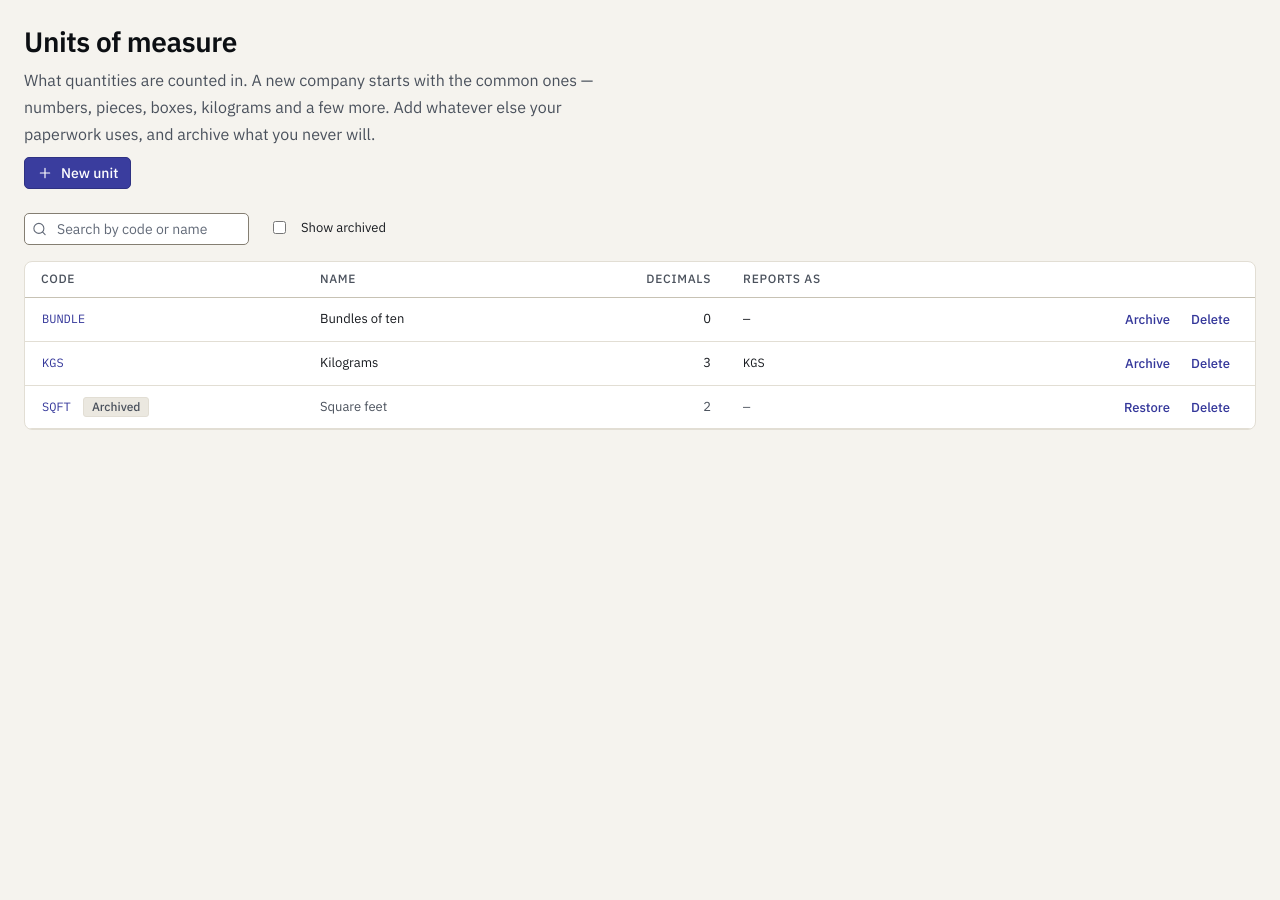
it: editing › shows what main answered with after a save, not what was sent
Click the button "KGS".
click(53, 363)  # box [33,350,73,377]
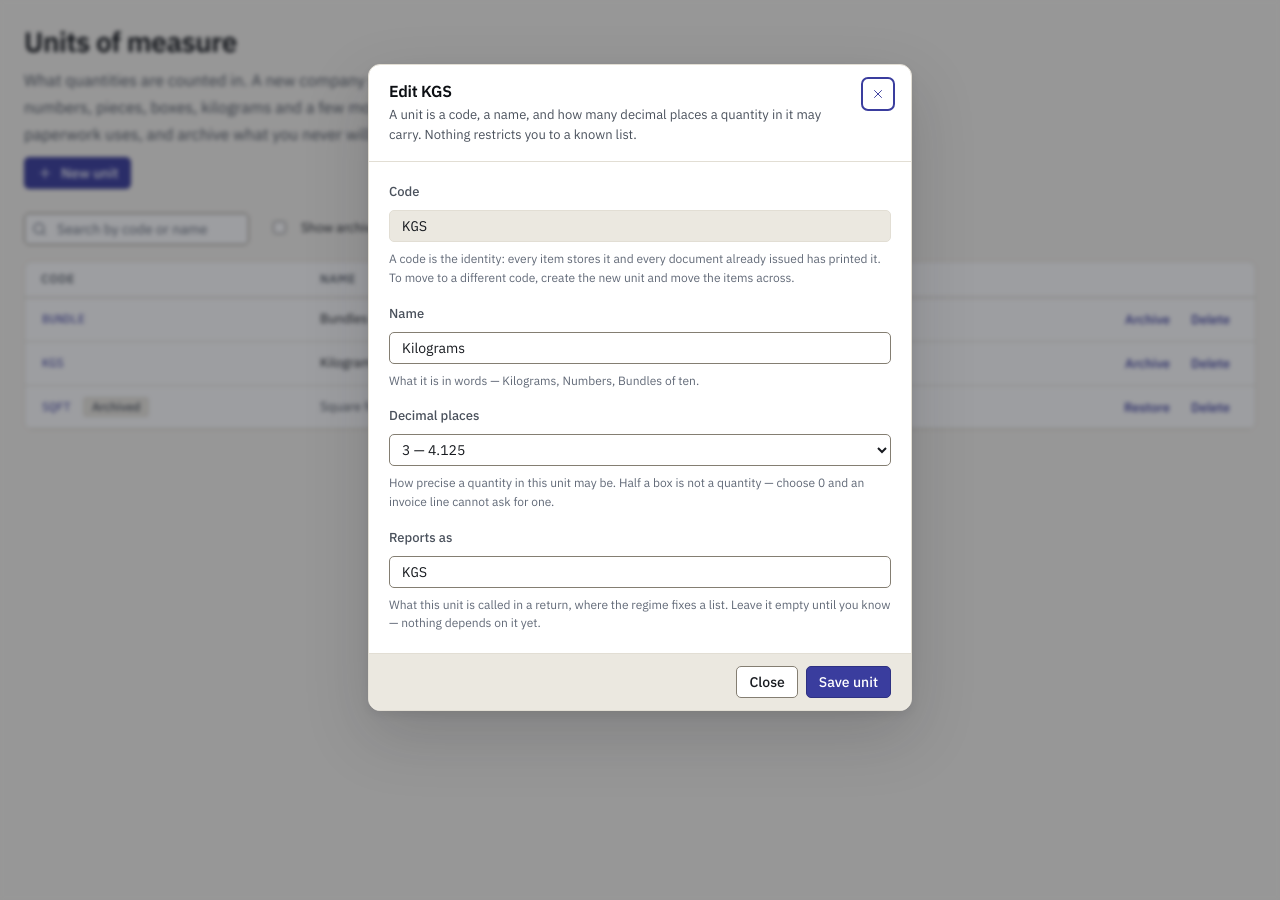
Replace the text in the field labelled "Name" with "Kilos" at (640, 348), box [389,332,891,364]
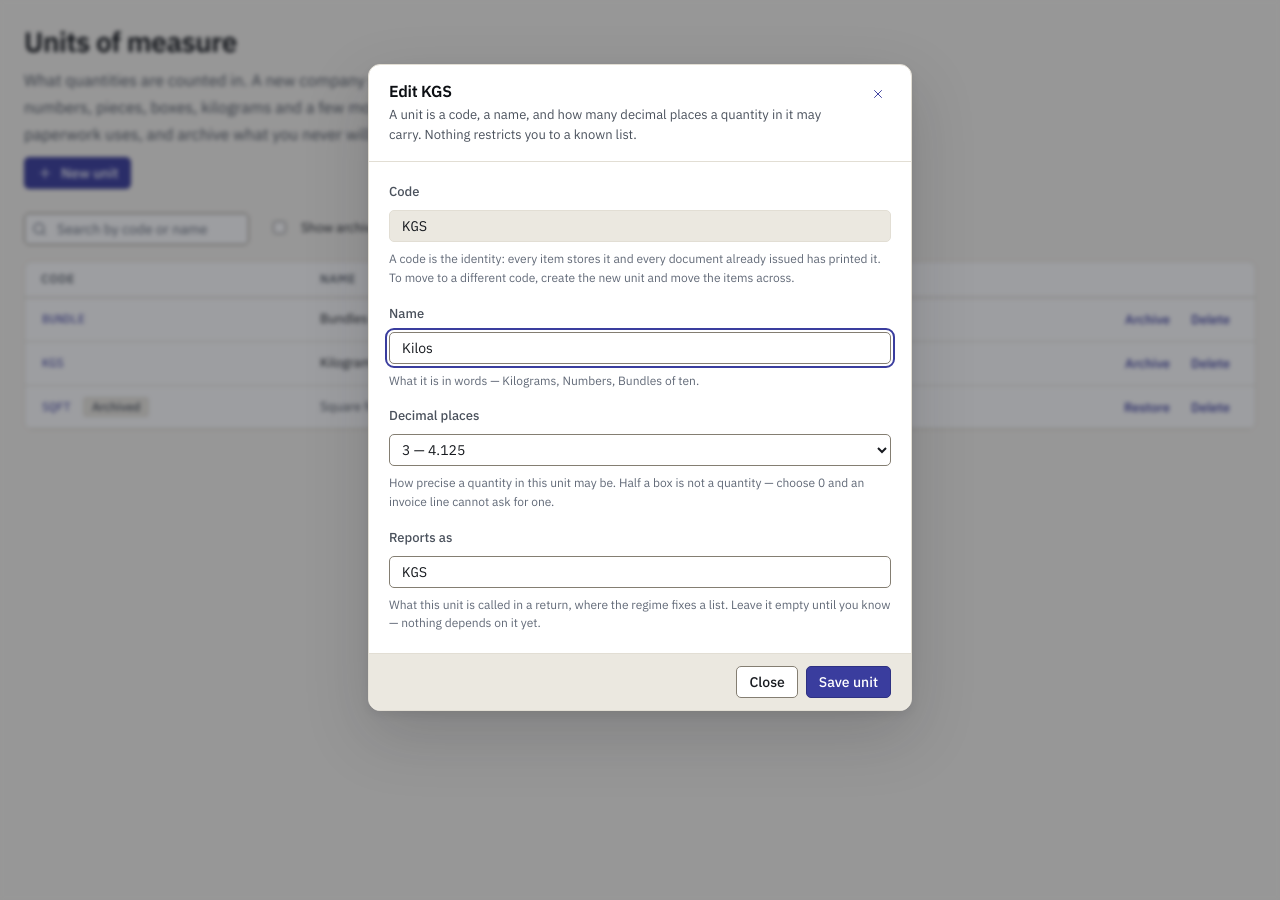
Click the button "Save unit".
click(848, 682)  # box [806,666,891,698]
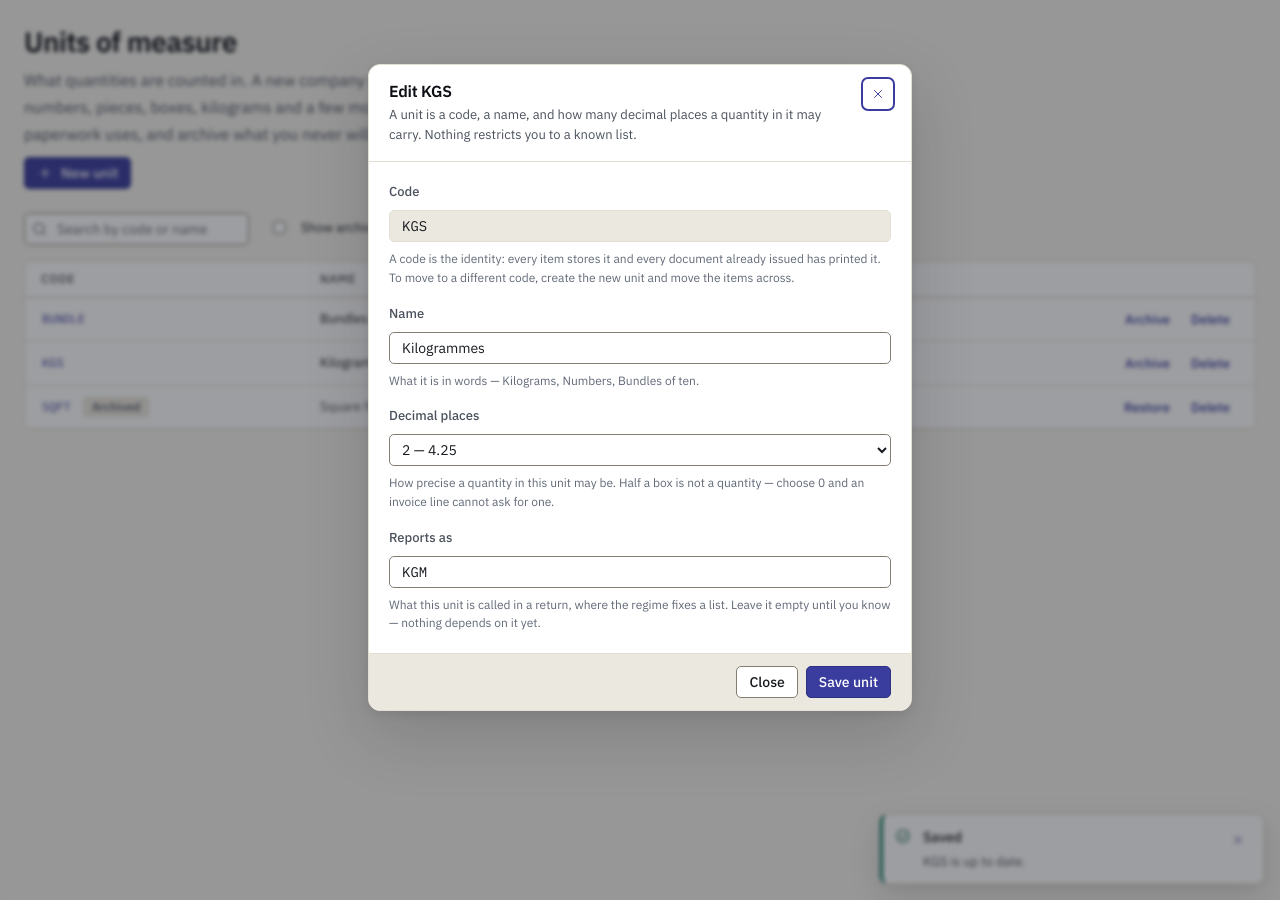
Expected: the field labelled "Name" holds "Kilogrammes", [389,332,891,364]
Expected: the dropdown labelled "Decimal places" shows "2 — 4.25", [389,434,891,466]
Expected: the field labelled "Reports as" holds "KGM", [389,556,891,588]
